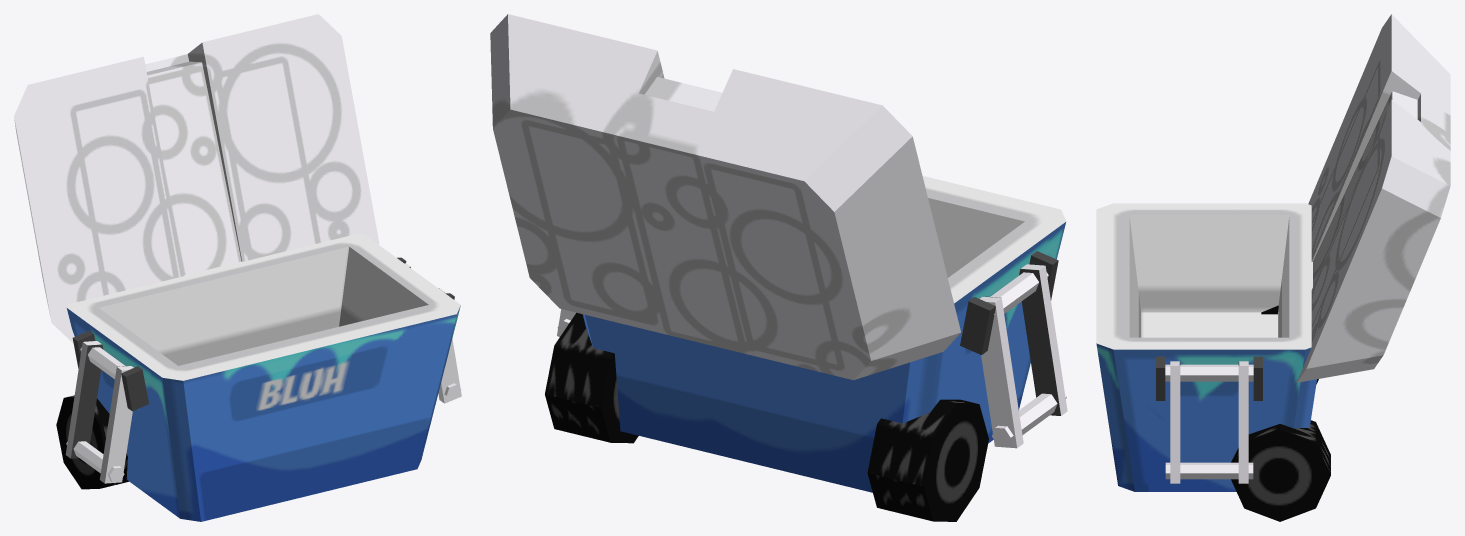
Rendered from coolerOpen.fbx.
3 views of the same model, side by side, from view 1: azimuth 30°, elevation 25°; view 2: azimuth 150°, elevation 25°; view 3: azimuth 270°, elevation 25° (orthographic). The views are drawn at different scales.
Visible parts, largest first — view 1: coolerBase.002|coolerBase|Dupli|, coolerLid.002|coolerLid|Dupli|, coolerBase.002|handle|Dupli|0.2, coolerBase.002|wheels|Dupli|3, coolerBase.002|handlebrace|Dupli|1.2, coolerBase.002|handle|Dupli|0.1; view 2: coolerLid.002|coolerLid|Dupli|, coolerBase.002|coolerBase|Dupli|, coolerBase.002|wheels|Dupli|3, coolerBase.002|handle|Dupli|0.2, coolerBase.002|handlebrace|Dupli|1.2; view 3: coolerBase.002|coolerBase|Dupli|, coolerLid.002|coolerLid|Dupli|, coolerBase.002|wheels|Dupli|3, coolerBase.002|handle|Dupli|0.1, coolerBase.002|handlebrace|Dupli|1.1.
Boxes of the visible parts, box(x1,y1,x2,y2) form: coolerBase.002|coolerBase|Dupli|: box(66, 233, 460, 521); coolerLid.002|coolerLid|Dupli|: box(14, 14, 379, 343); coolerBase.002|handle|Dupli|0.2: box(65, 341, 133, 483); coolerBase.002|wheels|Dupli|3: box(56, 395, 128, 489); coolerBase.002|handlebrace|Dupli|1.2: box(72, 330, 148, 411); coolerBase.002|handle|Dupli|0.1: box(404, 263, 461, 403); coolerLid.002|coolerLid|Dupli|: box(490, 14, 960, 380); coolerBase.002|coolerBase|Dupli|: box(582, 176, 1066, 492); coolerBase.002|wheels|Dupli|3: box(545, 312, 988, 521); coolerBase.002|handle|Dupli|0.2: box(980, 264, 1067, 448); coolerBase.002|handlebrace|Dupli|1.2: box(960, 251, 1058, 354); coolerBase.002|coolerBase|Dupli|: box(1096, 203, 1316, 491); coolerLid.002|coolerLid|Dupli|: box(1296, 14, 1450, 382); coolerBase.002|wheels|Dupli|3: box(1231, 305, 1330, 521); coolerBase.002|handle|Dupli|0.1: box(1165, 361, 1253, 483); coolerBase.002|handlebrace|Dupli|1.1: box(1156, 356, 1262, 400).
Size of the model in its own units: 239 by 233 by 205.
